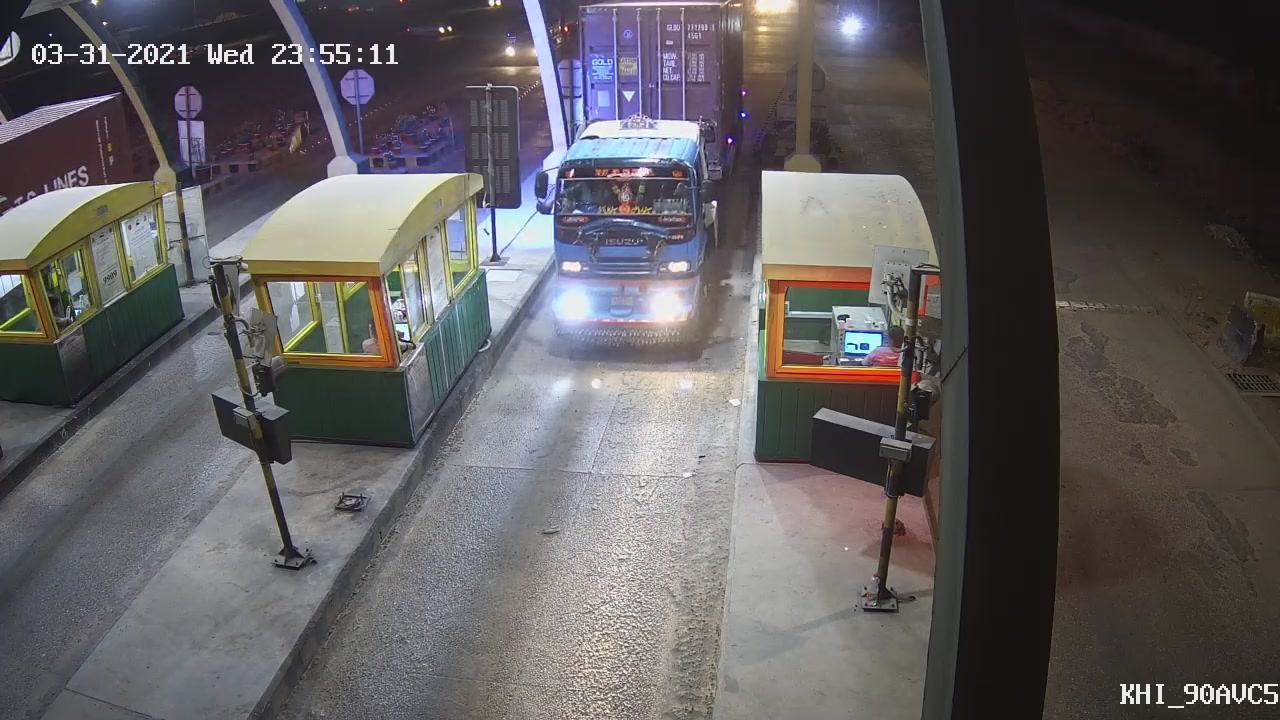F6: (535, 5, 746, 368)
